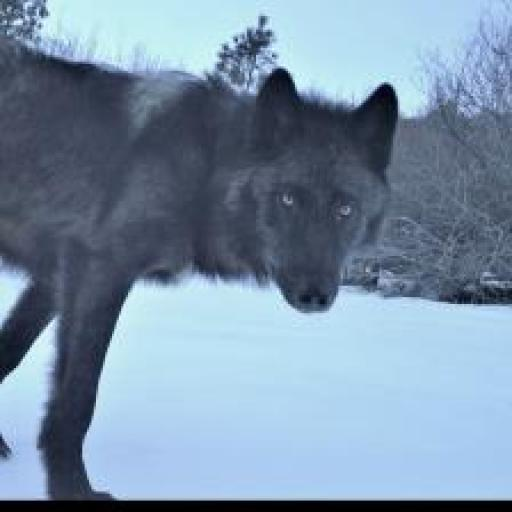wolf: (0, 41, 423, 511)
